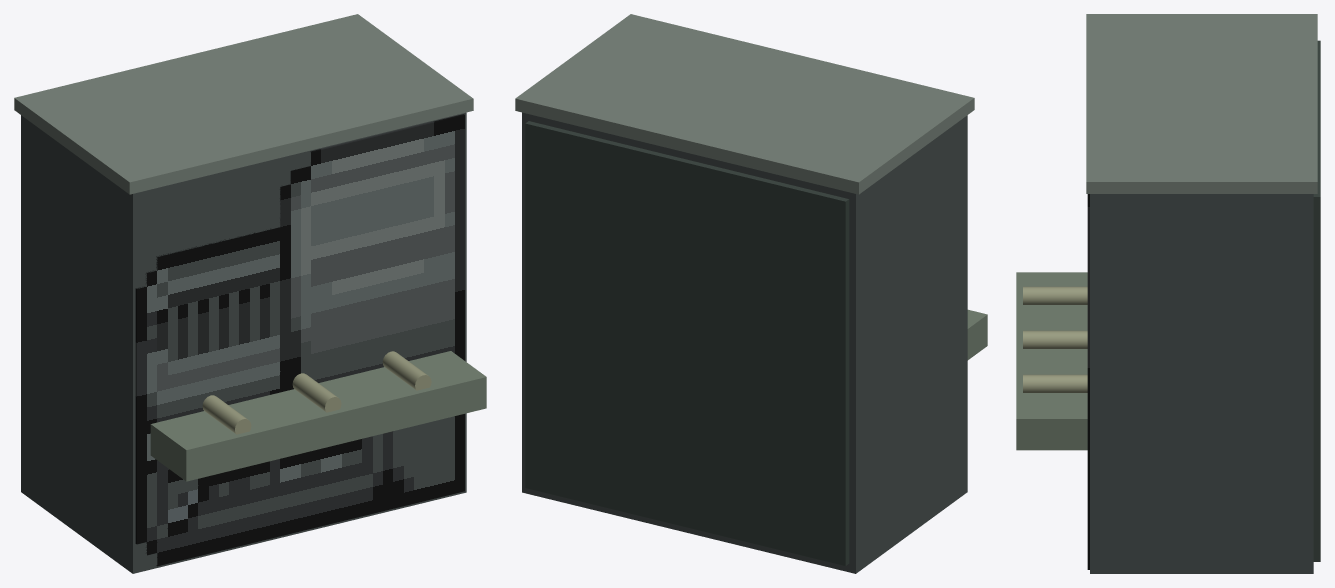
Rendered from CMU3DInteriorVehicleTankAmmoLoader.glb.
3 renders of one model, left to right at view 1: azimuth 30°, elevation 25°; view 2: azimuth 150°, elevation 25°; view 3: azimuth 270°, elevation 25°, orthographic.
Visible parts, largest first — view 1: source equipment controls, closed equipment casing, reinforced top, loading tray, feed roller (×3); view 2: rear service plate, closed equipment casing, reinforced top, loading tray; view 3: closed equipment casing, reinforced top, loading tray, feed roller (×3), rear service plate, source equipment controls.
Boxes of the visible parts, left/top/right/bottom form: source equipment controls: left=135, top=114, right=464, bottom=566; closed equipment casing: left=21, top=112, right=466, bottom=573; reinforced top: left=14, top=14, right=473, bottom=194; loading tray: left=150, top=351, right=486, bottom=481; feed roller (×3): left=202, top=351, right=431, bottom=434; rear service plate: left=525, top=121, right=849, bottom=565; closed equipment casing: left=522, top=112, right=967, bottom=573; reinforced top: left=515, top=14, right=974, bottom=194; loading tray: left=967, top=309, right=987, bottom=360; closed equipment casing: left=1090, top=194, right=1313, bottom=573; reinforced top: left=1086, top=14, right=1317, bottom=193; loading tray: left=1016, top=272, right=1087, bottom=450; feed roller (×3): left=1023, top=286, right=1087, bottom=392; rear service plate: left=1313, top=40, right=1320, bottom=561; source equipment controls: left=1087, top=194, right=1089, bottom=569.
Bounding box in the file's own units: 1.03 × 1.13 × 0.7894.
Materials: 6 (1 with a texture image).
